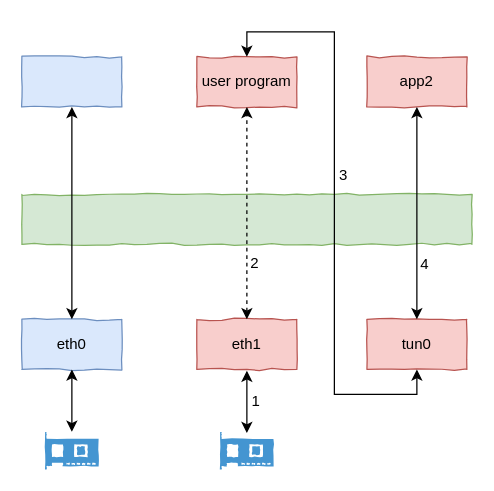
The diagram is 494 pixels wide and 491 high, and some of its shapes have lost their labels. The shapes that lost their labels are listed below. From the top down, each one's box as (x1, y1, x2, y2) in pixels, then its label:
(21, 56, 122, 107): app1
(21, 193, 472, 244): kernel protocal stack
